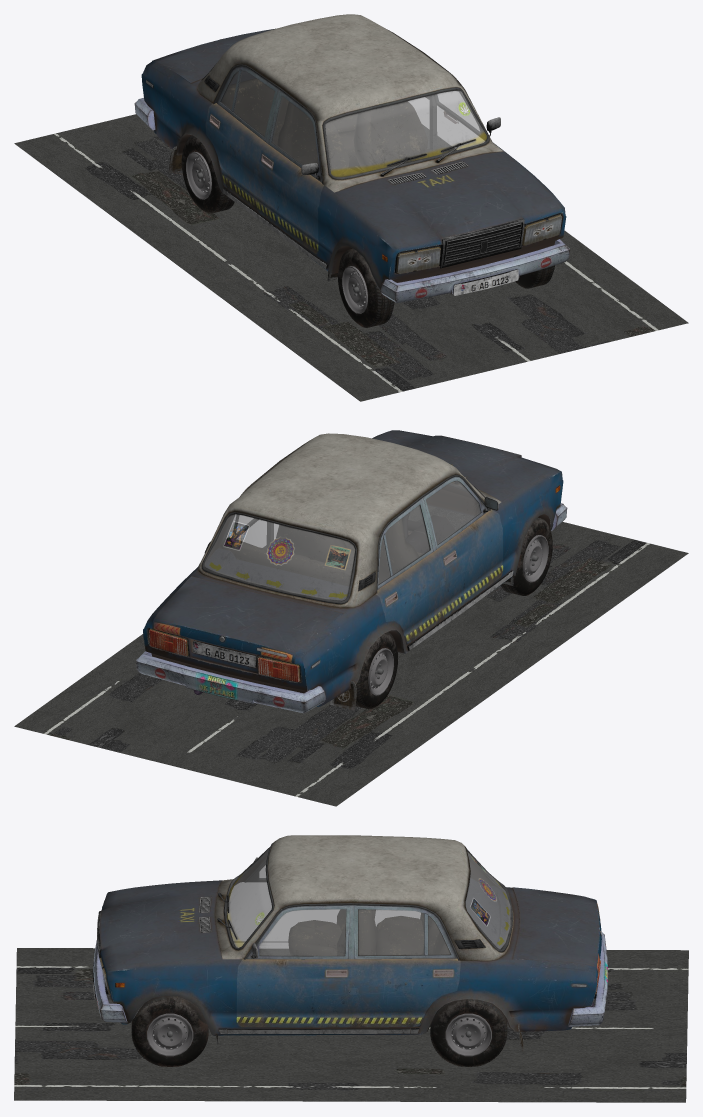
3 renders of one model, top to bottom at view 1: azimuth 30°, elevation 25°; view 2: azimuth 150°, elevation 25°; view 3: azimuth 270°, elevation 25°, orthographic. The views are drawn at different scales.
Visible parts, largest first — view 1: Car_1, pPlane1_0; view 2: Car_1, pPlane1_0; view 3: Car_1, pPlane1_0.
Part boxes in pixels (bbox=[...]): Car_1: bbox=[134, 14, 570, 327]; pPlane1_0: bbox=[14, 114, 688, 401]; Car_1: bbox=[136, 430, 567, 713]; pPlane1_0: bbox=[14, 506, 688, 806]; Car_1: bbox=[92, 835, 608, 1066]; pPlane1_0: bbox=[14, 948, 688, 1102].
Size of the model in its own units: 296 by 148 by 545.
7 materials, 7 textured.
